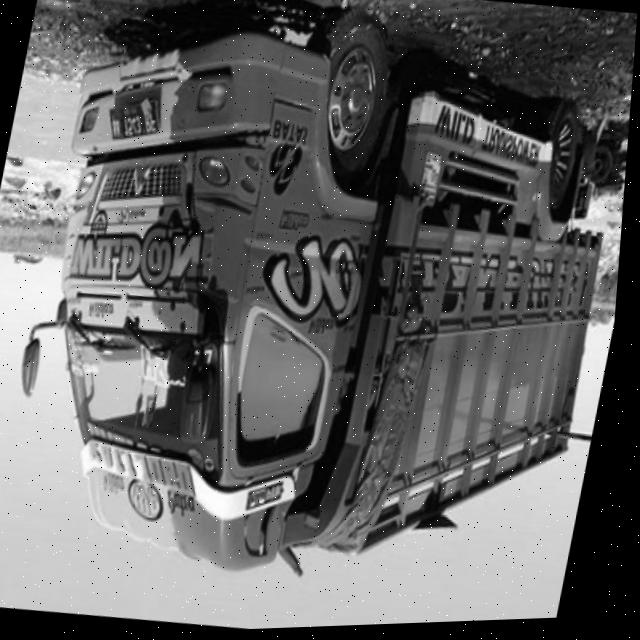truck: (1, 1, 462, 619)
